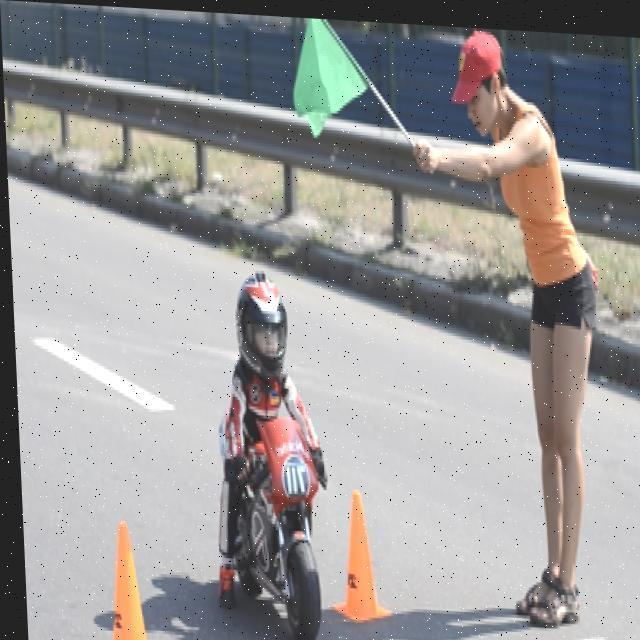Helmet: (228, 263, 292, 380)
